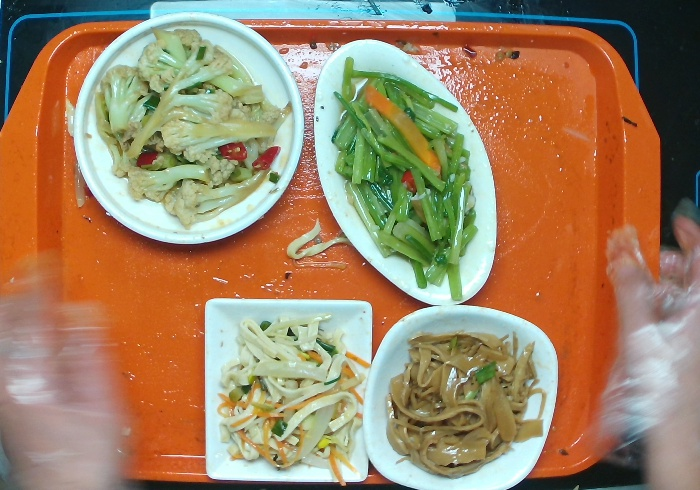HZYJPL-Si_Fang_Die: (200, 298, 374, 490)
HZYJPL-Si_Fang_Yuan_Die: (366, 303, 560, 490)
HZYJPL-Xiao_Yu_Die: (308, 36, 501, 304)
HZYJPL-Xiao_Yuan_Die: (71, 11, 304, 249)
